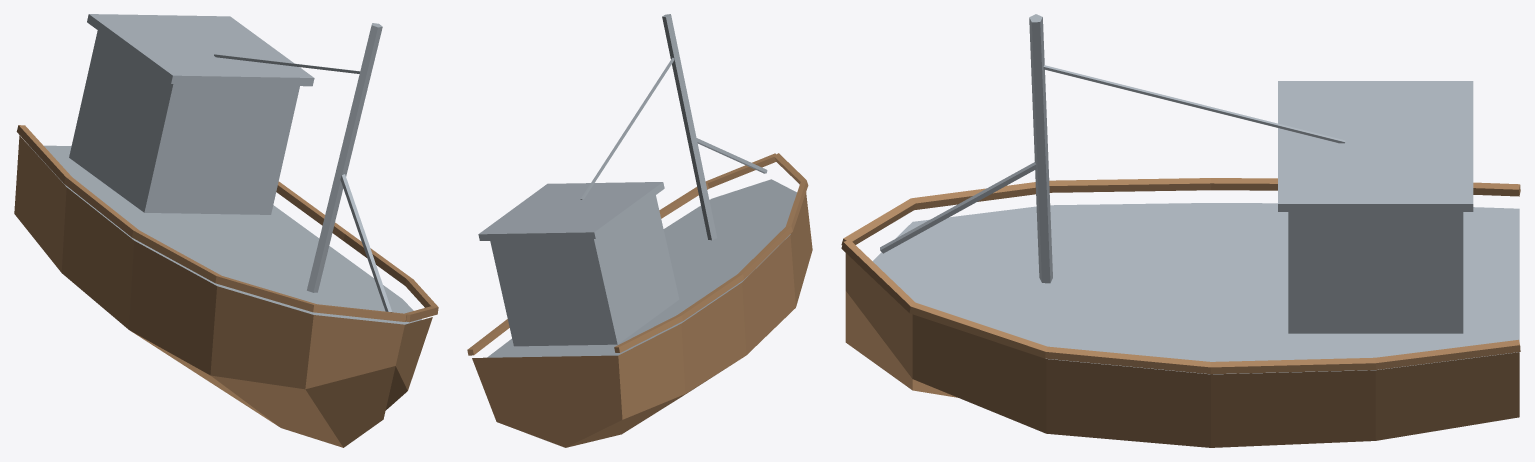
Rendered from boat.glb.
3 views of the same model, side by side, from view 1: azimuth 30°, elevation 25°; view 2: azimuth 150°, elevation 25°; view 3: azimuth 270°, elevation 25° (orthographic). The views are drawn at different scales.
Visible parts, largest first — view 1: deckhouse, boat; view 2: deckhouse, boat; view 3: deckhouse, boat.
Boxes of the visible parts, <box> form: deckhouse: <box>29,14,421,324</box>; boat: <box>14,125,438,447</box>; deckhouse: <box>478,14,796,357</box>; boat: <box>467,153,812,447</box>; deckhouse: <box>872,14,1519,374</box>; boat: <box>841,178,1520,447</box>.
Bounding box in the file's own units: 2.89 × 4.85 × 6.6.
